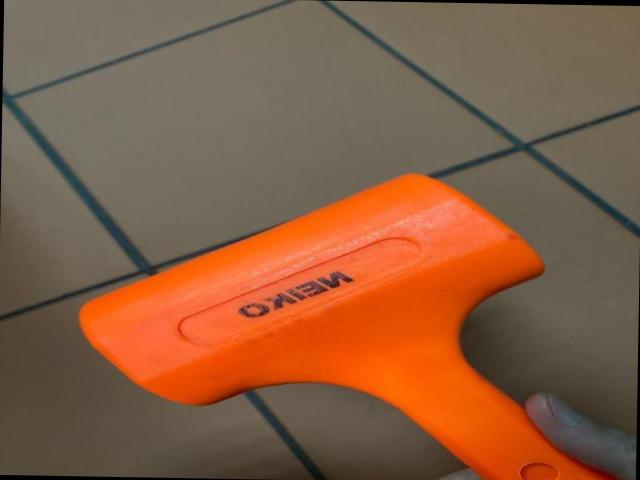hammer: (74, 166, 632, 480)
